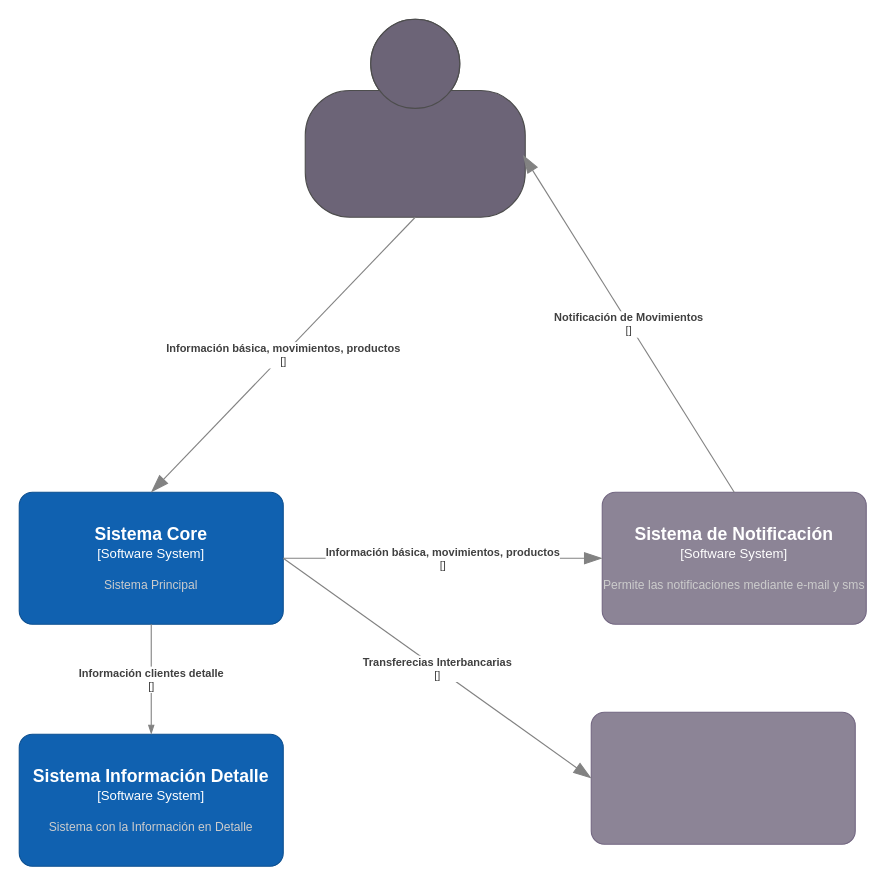
Some shapes in this 886 by 886 pixel diagram are drawn without their labels. The shapes that lost their labels are listed below. From the top down, each one's centre as x and y in pixels, then its label:
At point (414, 117): "Cliente [Person] Cliente".
At point (722, 777): "Gateway Interbancario [Software System] Permite la transacciones interbancarias".
